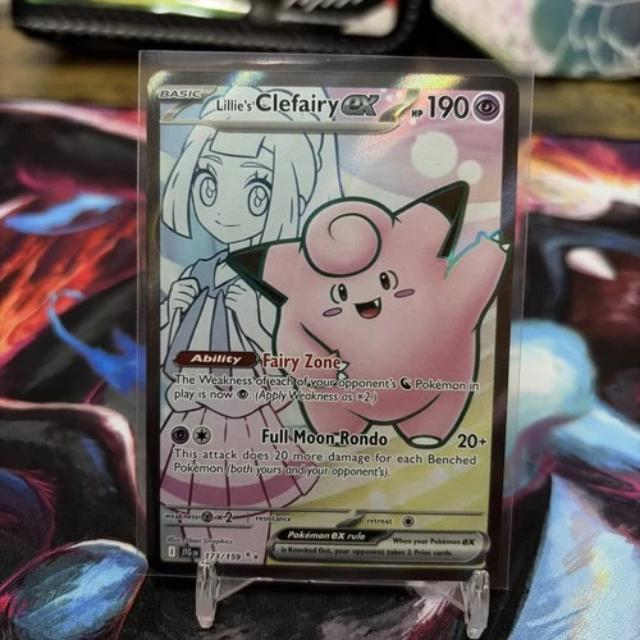Card: (141, 64, 525, 586)
Name: (215, 83, 383, 124)
